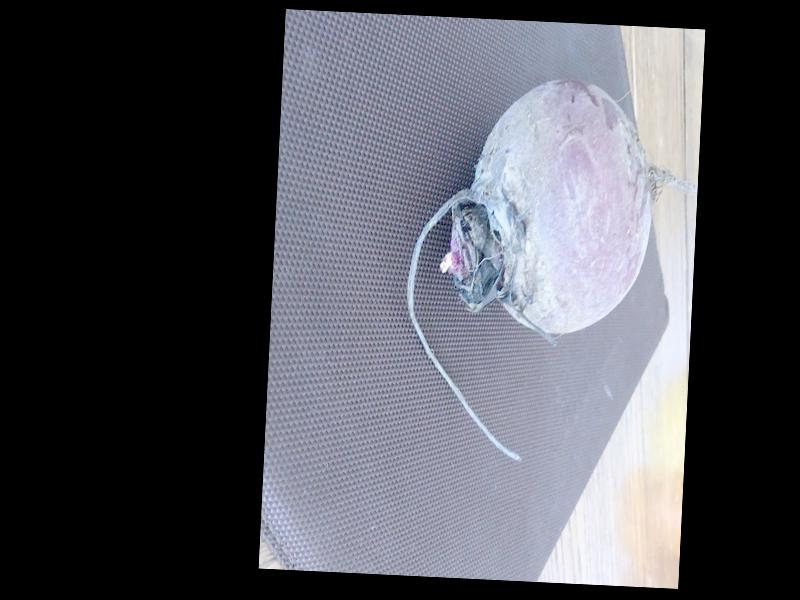Beet: (399, 71, 701, 469)
